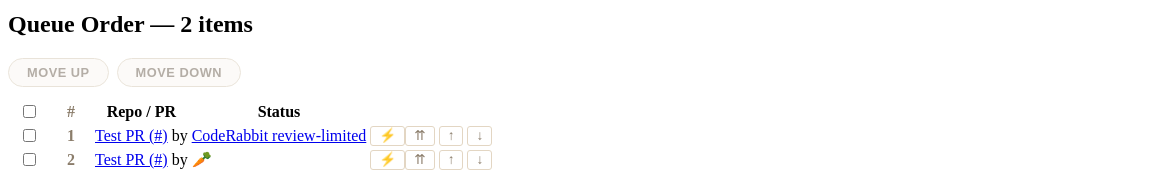
Test case: QueueOrder › retrigger now › shows error toast on failure
The image size is (1152, 187).
What coordinates should you click on to do the following:
click the button named "Retrigger now"
I would click on:
 (388, 136)
Its box is [370,126,405,146].
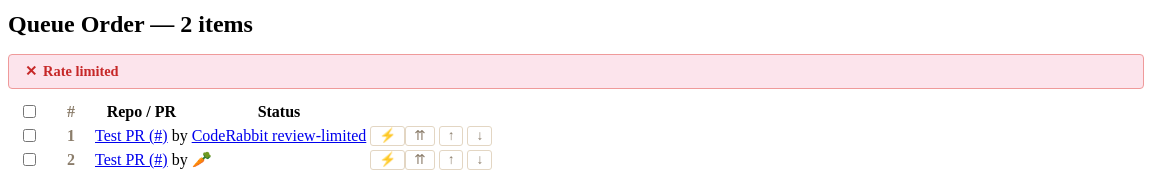
Result: the text "Rate limited" is shown at [8,54,1144,89]
